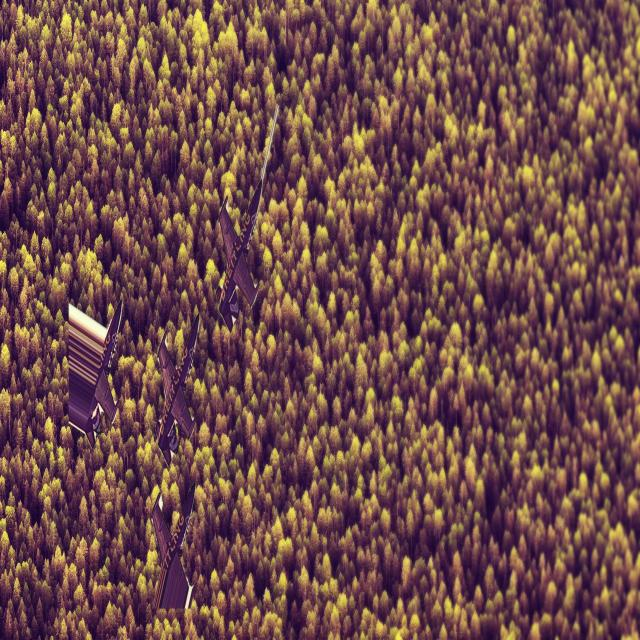airplane: (216, 103, 279, 332), (66, 299, 124, 450), (153, 312, 200, 468), (150, 481, 197, 614)
